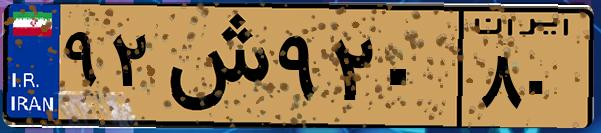0: (385, 28, 445, 110), (525, 38, 570, 115)
2: (330, 28, 385, 110), (110, 28, 158, 98)
8: (475, 38, 525, 113)
9: (270, 28, 330, 110), (57, 26, 110, 100)
ش: (158, 12, 270, 120)
